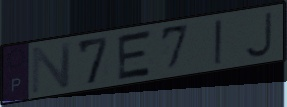7: (76, 35, 112, 86), (158, 22, 192, 74)
E: (115, 27, 155, 82)
I: (213, 17, 225, 67)
J: (242, 10, 274, 60)
N: (29, 39, 74, 96)
